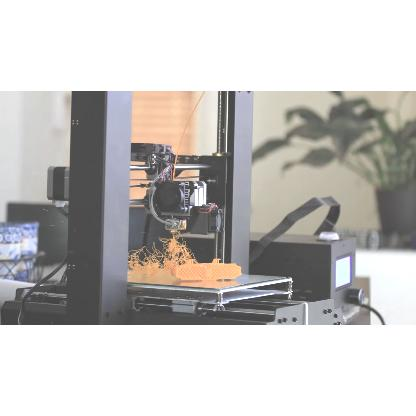fail: (130, 237, 194, 264)
